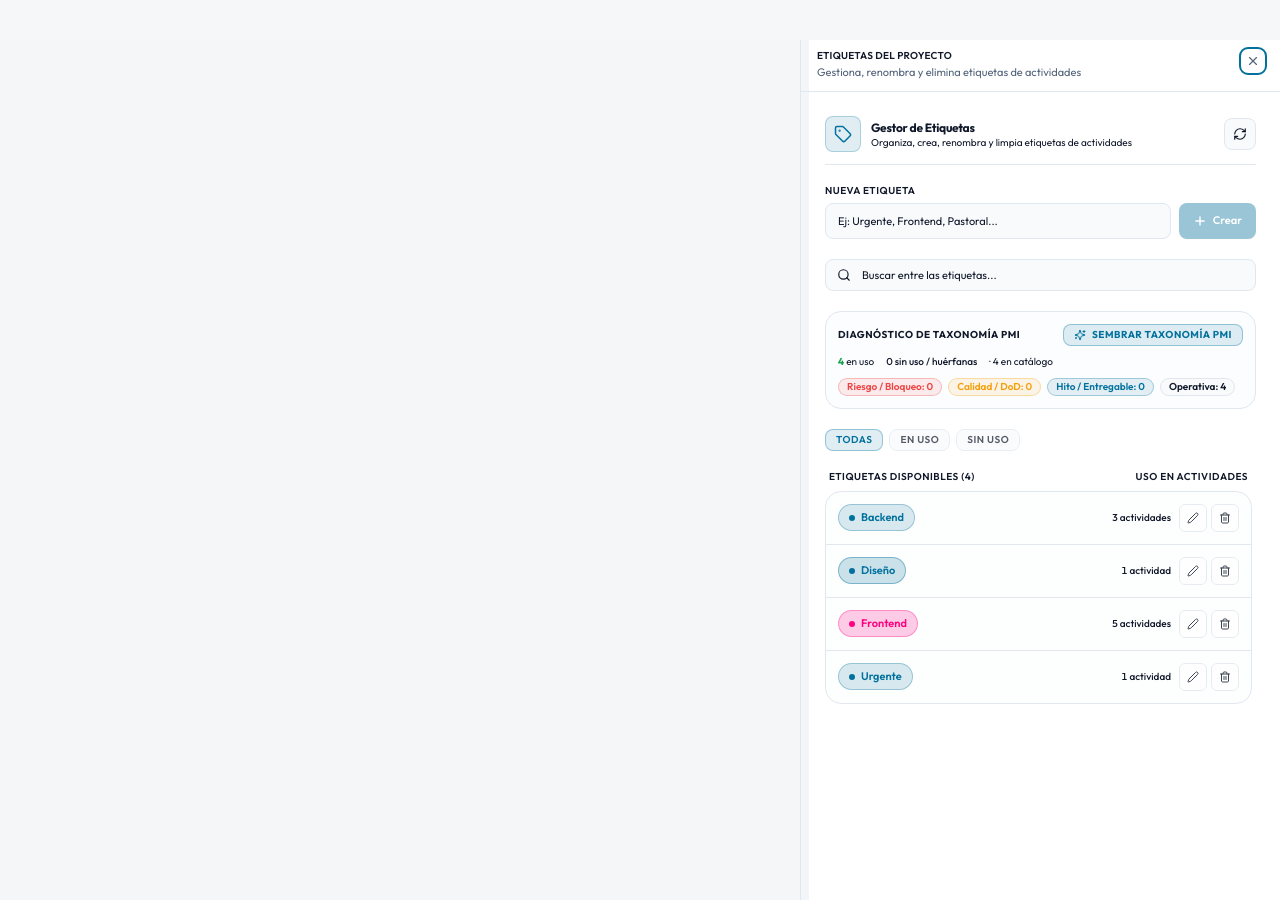
Test: ProjectLabelsDrawer › creates a new label locally and notifies user
The width and height of the screenshot is (1280, 900).
Check: the text "Backend" is shown, box [861, 509, 904, 526]
Type "Infraestructura" into the field with placeholder "Ej: Urgente, Frontend, Pastoral...". click: {"x": 998, "y": 220}
box: [825, 202, 1171, 238]
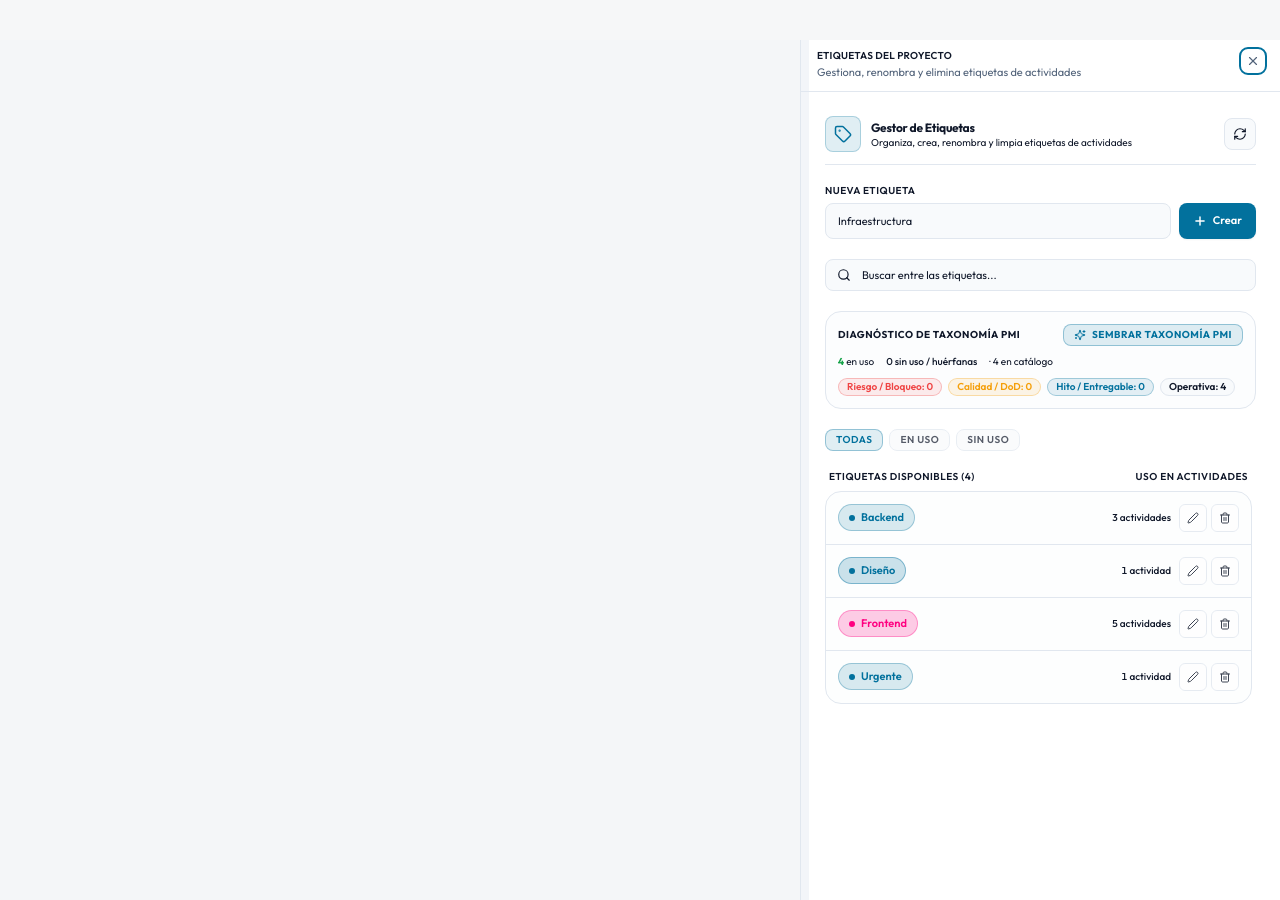
Click the button "Crear". click: {"x": 1217, "y": 220}
box: [1179, 202, 1256, 238]
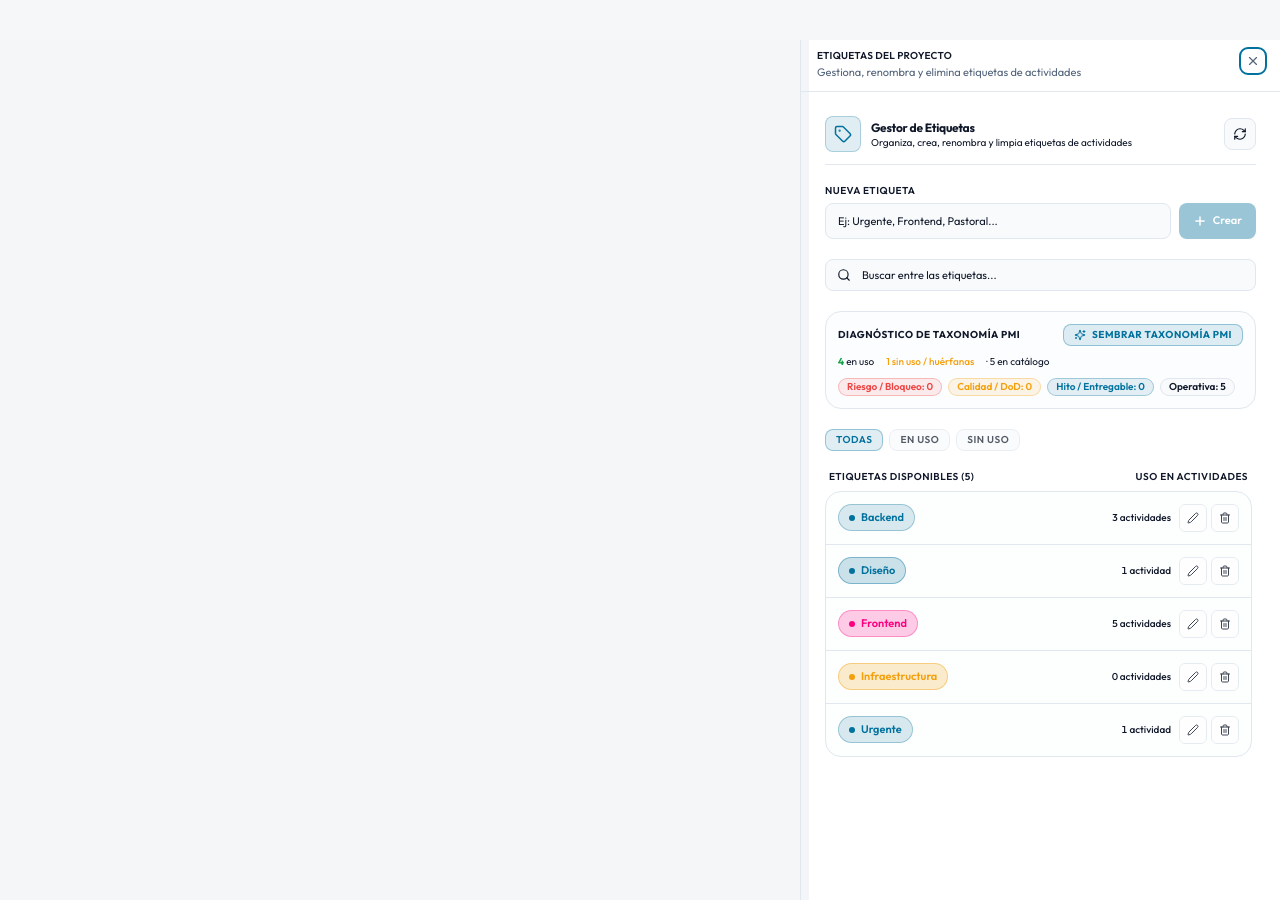
Check: the text "Infraestructura" is shown, box [861, 668, 937, 685]
